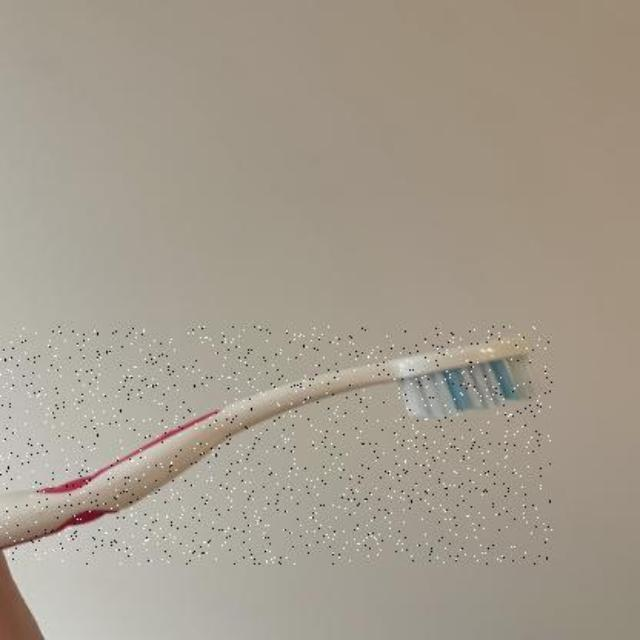toothbrush: (0, 326, 552, 564)
